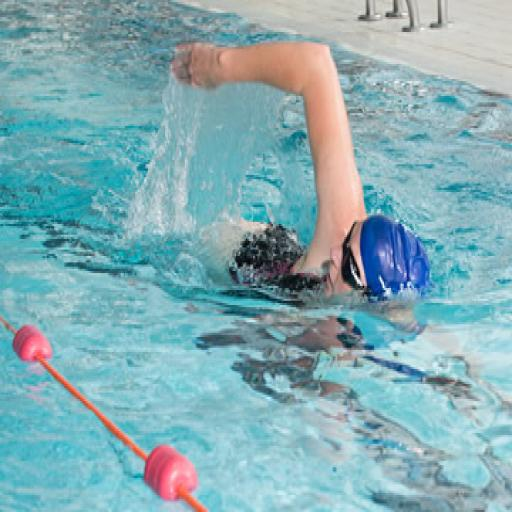swimming: (42, 31, 448, 381)
